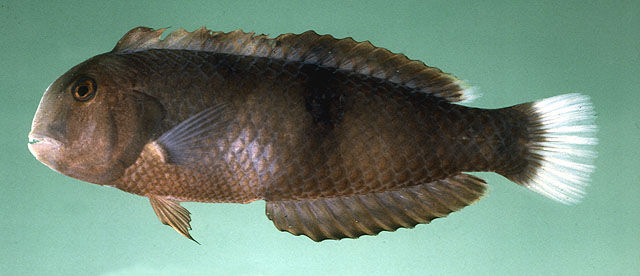fish: (27, 26, 599, 246)
